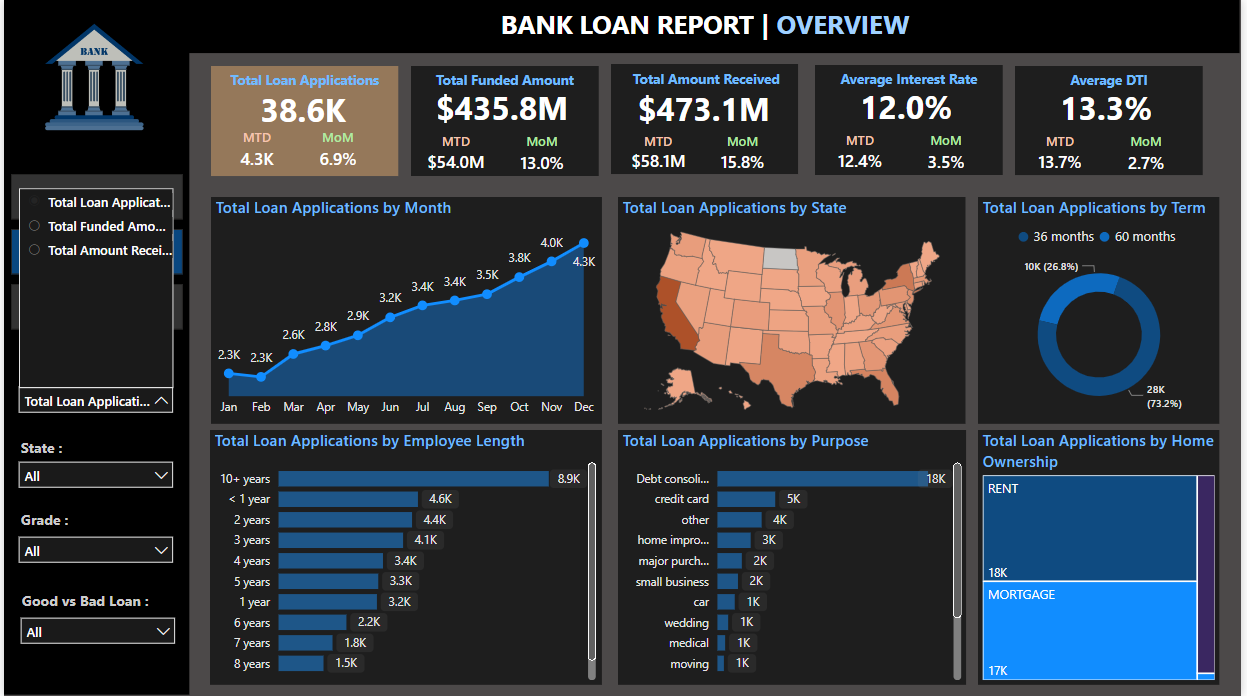

The dashboard page shown, as its layout file describes it:
{"tool":"powerbi","page":{"name":"OverView","canvas":[1280,720],"ordinal":1},"visuals":[{"type":"shape","box":[629.2,66.4,193.8,114.2],"z":0,"group":"g3"},{"type":"shape","box":[839.7,67.5,194.5,114],"z":0,"group":"g4"},{"type":"shape","box":[214.3,68.6,194.3,114.3],"z":0,"group":"g1"},{"type":"shape","box":[421.4,68.6,194.5,114],"z":0,"group":"g2"},{"type":"shape","box":[1047.1,68.6,194.5,113.1],"z":0,"group":"g5"},{"type":"shape","box":[214.3,204.3,405,235],"z":0},{"type":"shape","box":[0,0,1280,55],"z":1000},{"type":"card","fields":{"Values":["table_measures.avg_interest_rate"]},"box":[851.5,82.1,165.9,58.4],"z":1000,"group":"g4"},{"type":"card","fields":{"Values":["table_measures.avg_DTI"]},"box":[1058.9,83.1,165.9,57.9],"z":1000,"group":"g5"},{"type":"card","fields":{"Values":["table_measures.total_loan_appl"]},"box":[247.2,83.2,124.3,61.3],"z":1000,"group":"g1"},{"type":"card","fields":{"Values":["table_measures.total_funded_amt"]},"box":[433.2,83.2,165.9,58.4],"z":1000,"group":"g2"},{"type":"card","fields":{"Values":["table_measures.total_received_amt"]},"box":[643.2,85.3,163.1,55.8],"z":1000,"group":"g3"},{"type":"shape","box":[0,55.1,192,664.8],"z":2000},{"type":"textbox","box":[632.2,67,191,41.6],"z":2000,"group":"g3"},{"type":"textbox","box":[839.7,67.5,194.5,38.9],"z":2000,"group":"g4"},{"type":"textbox","box":[214.3,68.6,194.3,39],"z":2000,"group":"g1"},{"type":"textbox","box":[421.4,68.6,194.5,38.9],"z":2000,"group":"g2"},{"type":"textbox","box":[1047.1,68.6,194.5,38.6],"z":2000,"group":"g5"},{"type":"card","title":"MTD","fields":{"Values":["table_measures.MTD_loan_appl"]},"box":[235.7,132.7,51.4,50.2],"z":3000,"group":"g1"},{"type":"card","title":"MTD","fields":{"Values":["table_measures.MTD_interest_rate"]},"box":[851.5,136.3,70.1,48.6],"z":3000,"group":"g4"},{"type":"card","title":"MTD","fields":{"Values":["table_measures.MTD_avg_DTI"]},"box":[1058.9,136.9,70.1,48.3],"z":3000,"group":"g5"},{"type":"card","title":"MTD","fields":{"Values":["table_measures.MTD_received_amt"]},"box":[643.2,137.1,68.9,46.5],"z":3000,"group":"g3"},{"type":"card","title":"MTD","fields":{"Values":["table_measures.MTD_funded_amt"]},"box":[433.2,137.4,70.1,48.6],"z":3000,"group":"g2"},{"type":"textbox","box":[12.4,448.7,119.7,38.5],"z":3000},{"type":"textbox","box":[509.2,1.4,447.3,49.5],"z":4000},{"type":"card","title":"MoM","fields":{"Values":["table_measures.MOM_loan_appl"]},"box":[320,132.7,51.4,50.2],"z":4000,"group":"g1"},{"type":"card","title":"MoM","fields":{"Values":["table_measures.MOM_interest_rate"]},"box":[946.6,136.1,57.8,49.7],"z":4000,"group":"g4"},{"type":"card","title":"MoM","fields":{"Values":["table_measures.MOM_avg_DTI"]},"box":[1154,136.7,57.8,49.3],"z":4000,"group":"g5"},{"type":"card","title":"MoM","fields":{"Values":["table_measures.MOM_received_amt"]},"box":[736.7,136.9,56.8,47.5],"z":4000,"group":"g3"},{"type":"card","title":"MoM","fields":{"Values":["table_measures.MOM_funded_amt"]},"box":[528.3,137.2,57.8,49.7],"z":4000,"group":"g2"},{"type":"group","id":"g1","title":"Group 1","box":[214.3,68.6,194.3,114.3],"z":5000},{"type":"group","id":"g2","title":"Group 1","box":[421.4,68.6,194.3,118],"z":6000},{"type":"group","id":"g3","title":"Group 1","box":[629.2,66.4,194,118],"z":7000},{"type":"group","id":"g4","title":"Group 1","box":[839.7,67.5,194.5,118.2],"z":8000},{"type":"group","id":"g5","title":"Group 1","box":[1047.1,68.6,194.3,117.1],"z":9000},{"type":"shape","box":[635.9,203.7,360,235],"z":10000},{"type":"slicer","fields":{"Values":["financial_loan.address_state"]},"box":[5.5,468,180.3,50.9],"z":11000},{"type":"slicer","fields":{"Values":["financial_loan.grade"]},"box":[5.5,546.4,180.3,50.9],"z":12000},{"type":"textbox","box":[12.4,523,119.7,38.5],"z":13000},{"type":"slicer","fields":{"Values":["financial_loan.Good vs Band Loan"]},"box":[6.9,630.4,180.3,50.9],"z":14000},{"type":"textbox","box":[13.8,607,163.8,38.5],"z":15000},{"type":"areaChart","fields":{"Y":["table_measures.total_loan_appl"],"Category":["Date Table.Month"]},"box":[214.7,203.7,404.6,235.4],"z":16000},{"type":"slicer","fields":{"Values":["Select Measure.Select Measure"]},"box":[5.5,390.9,180.3,55.1],"z":17000},{"type":"shape","box":[213.3,445.9,406,264.3],"z":18000},{"type":"shapeMap","fields":{"Value":["table_measures.total_loan_appl"],"Category":["financial_loan.address_state"]},"box":[635.9,203.7,360.6,235.4],"z":19000},{"type":"shape","box":[1008.9,203.7,250.5,235.4],"z":20000},{"type":"donutChart","fields":{"Y":["table_measures.total_loan_appl"],"Category":["financial_loan.term"]},"box":[1008.9,203.7,250.5,235.4],"z":21000},{"type":"barChart","fields":{"Y":["table_measures.total_loan_appl"],"Category":["financial_loan.emp_length"]},"box":[213.3,445.9,404.6,264.3],"z":22000},{"type":"textbox","box":[12.4,371.6,139,38.5],"z":23000},{"type":"shape","box":[635.9,445.9,360.6,264.3],"z":24000},{"type":"barChart","fields":{"Y":["table_measures.total_loan_appl"],"Category":["financial_loan.purpose"]},"box":[635.9,445.9,360.6,264.3],"z":25000},{"type":"shape","box":[1008.9,445.9,250.5,264.3],"z":26000},{"type":"treemap","fields":{"Values":["table_measures.total_loan_appl"],"Group":["financial_loan.home_ownership"]},"box":[1008.9,445.9,250.5,264.3],"z":27000},{"type":"pageNavigator","box":[6.9,180.3,178.9,163.8],"z":28000},{"type":"image","box":[0,1.4,187.2,156.9],"z":29000}]}

Visuals, with their boxes in screenshot pixels (x1, y1, x2, y2), scaled from the page's 1280x720 canvas onto the 1247x696 screenshot:
shape: 613,64,802,175
shape: 818,65,1008,175
shape: 209,66,398,177
shape: 411,66,600,177
shape: 1020,66,1210,176
shape: 209,197,603,425
shape: 0,0,1246,53
card - table_measures.avg_interest_rate: 830,79,991,136
card - table_measures.avg_DTI: 1032,80,1193,136
card - table_measures.total_loan_appl: 241,80,362,140
card - table_measures.total_funded_amt: 422,80,584,137
card - table_measures.total_received_amt: 627,82,786,136
shape: 0,53,187,695
textbox: 616,65,802,105
textbox: 818,65,1008,103
textbox: 209,66,398,104
textbox: 411,66,600,104
textbox: 1020,66,1210,104
"MTD" card: 230,128,280,177
"MTD" card: 830,132,898,179
"MTD" card: 1032,132,1100,179
"MTD" card: 627,133,694,177
"MTD" card: 422,133,490,180
textbox: 12,434,129,471
textbox: 496,1,932,49
"MoM" card: 312,128,362,177
"MoM" card: 922,132,979,180
"MoM" card: 1124,132,1181,180
"MoM" card: 718,132,773,178
"MoM" card: 515,133,571,181
"Group 1" group: 209,66,398,177
"Group 1" group: 411,66,600,180
"Group 1" group: 613,64,802,178
"Group 1" group: 818,65,1008,180
"Group 1" group: 1020,66,1209,180
shape: 620,197,970,424
slicer - financial_loan.address_state: 5,452,181,502
slicer - financial_loan.grade: 5,528,181,577
textbox: 12,506,129,543
slicer - financial_loan.Good vs Band Loan: 7,609,182,659
textbox: 13,587,173,624
areaChart - table_measures.total_loan_appl x Date Table.Month: 209,197,603,424
slicer - Select Measure.Select Measure: 5,378,181,431
shape: 208,431,603,687
shapeMap - table_measures.total_loan_appl x financial_loan.address_state: 620,197,971,424
shape: 983,197,1227,424
donutChart - table_measures.total_loan_appl x financial_loan.term: 983,197,1227,424
barChart - table_measures.total_loan_appl x financial_loan.emp_length: 208,431,602,687
textbox: 12,359,147,396
shape: 620,431,971,687
barChart - table_measures.total_loan_appl x financial_loan.purpose: 620,431,971,687
shape: 983,431,1227,687
treemap - table_measures.total_loan_appl x financial_loan.home_ownership: 983,431,1227,687
pageNavigator: 7,174,181,333
image: 0,1,182,153
